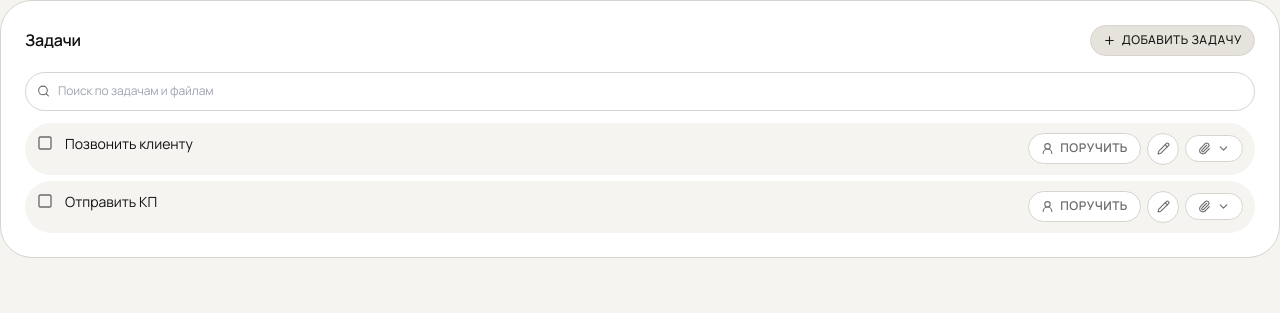
TASK-ROW-02 — pending одной строки не должен задевать другую › pending задачи 1 не дизейблит и не подставляет значение в селектор задачи 2
Click the button titled "Поручить задачу сотруднику" in the row of "Позвонить клиенту".
click(1085, 149)  # box [1028,133,1141,164]
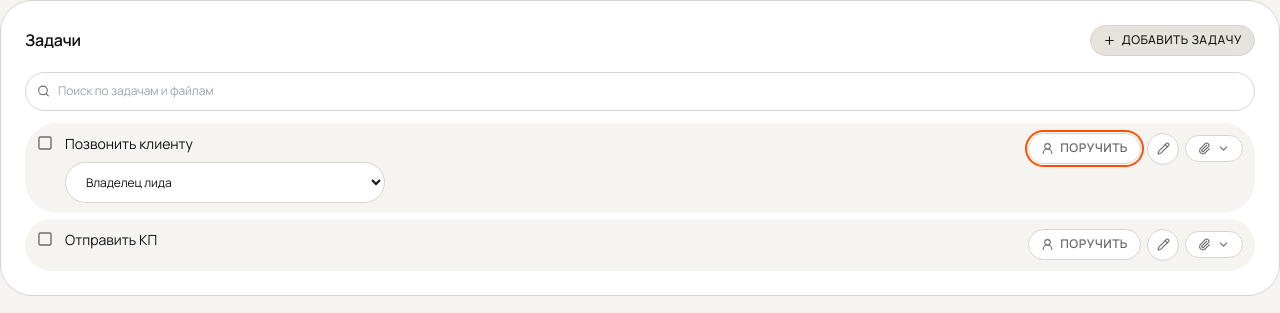
Select "Кирилл · Менеджер" in the dropdown named "Кому поручить задачу" at x=225, y=182, box [65,162,385,203]
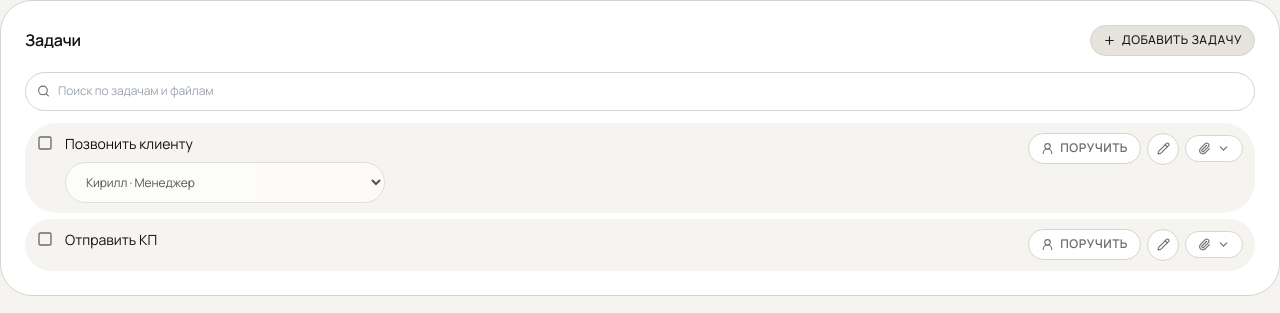
# Открываем задачу 2, пока задача 1 всё ещё pending.
Click the button titled "Поручить задачу сотруднику" in the row of "Отправить КП".
click(1085, 245)  # box [1028,229,1141,260]
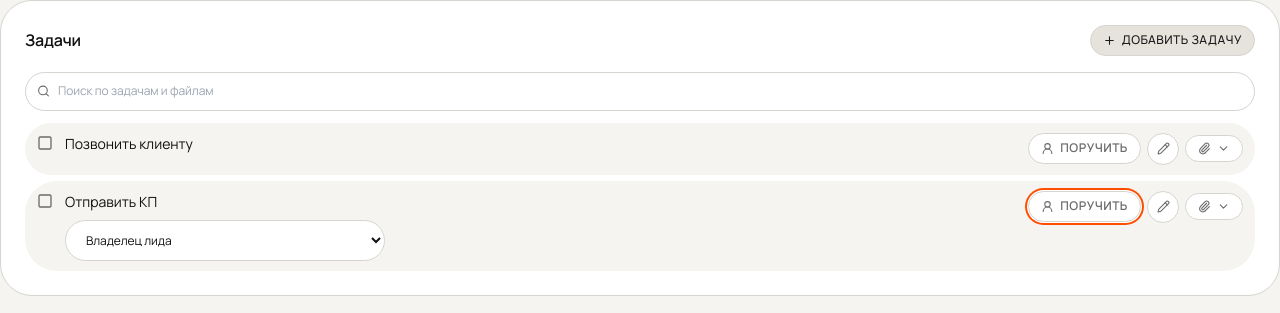
Result: the dropdown named "Кому поручить задачу" is enabled at [65,220,385,261]
Result: the dropdown named "Кому поручить задачу" shows "Владелец лида" at [65,220,385,261]
